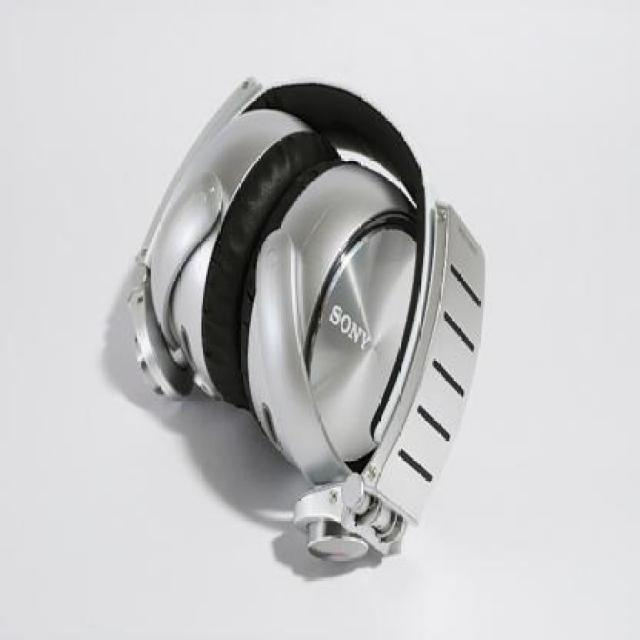earphone: (114, 42, 496, 592)
